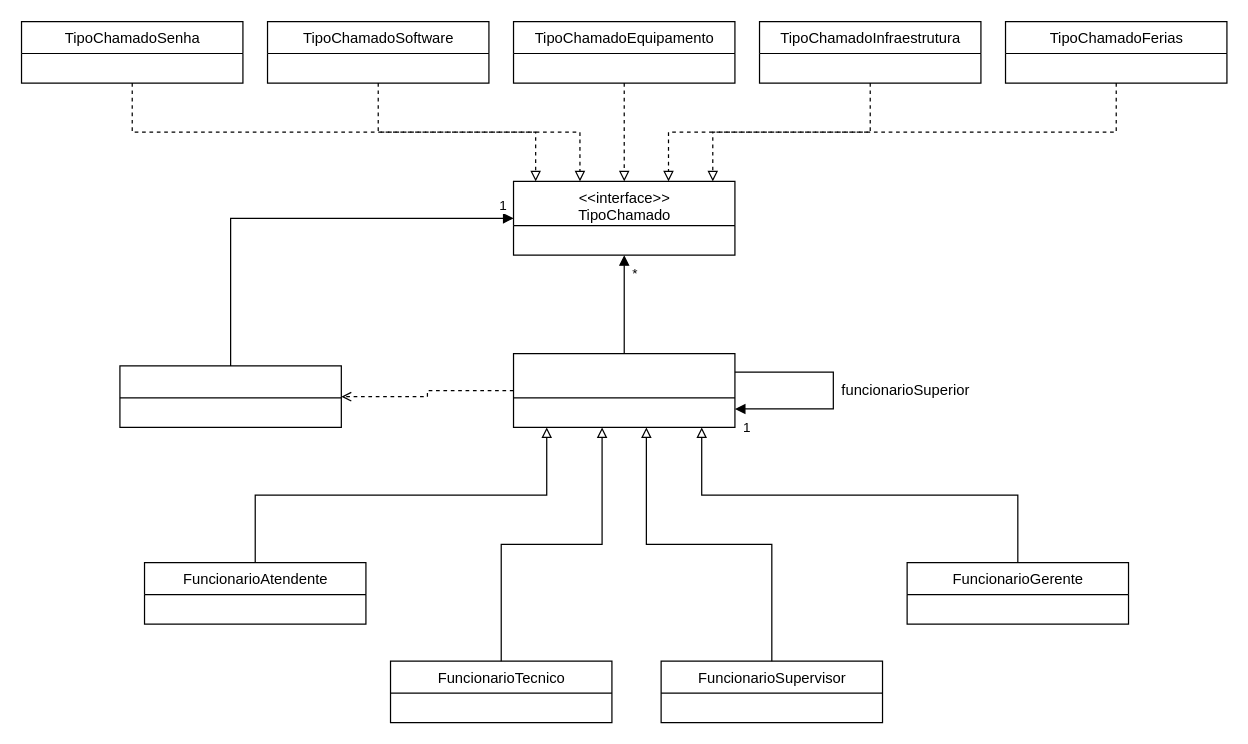
Some shapes in this 1248 by 744 pixel diagram are drawn without their labels. The shapes that lost their labels are listed below. From the top down, each one's centre as x and y in pixels, then its label:
At pixel 230 396: "Chamado".
At pixel 623 389: "<<abstract>> Funcionario".
